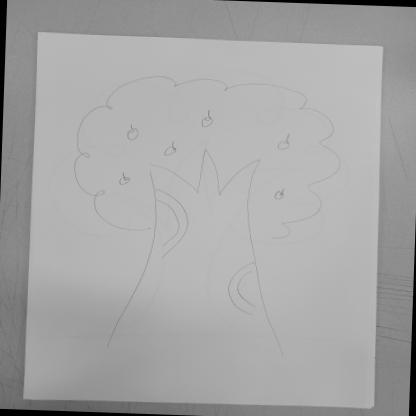apple: (123, 125, 143, 144), (200, 112, 218, 131), (161, 144, 180, 158), (276, 138, 292, 152), (118, 174, 131, 188), (270, 188, 284, 200)
branch_sharp: (138, 148, 266, 198)
crown_cloud: (66, 70, 346, 243)
knot: (147, 186, 193, 258), (221, 260, 271, 320)
trunk_straight: (124, 232, 279, 333)
